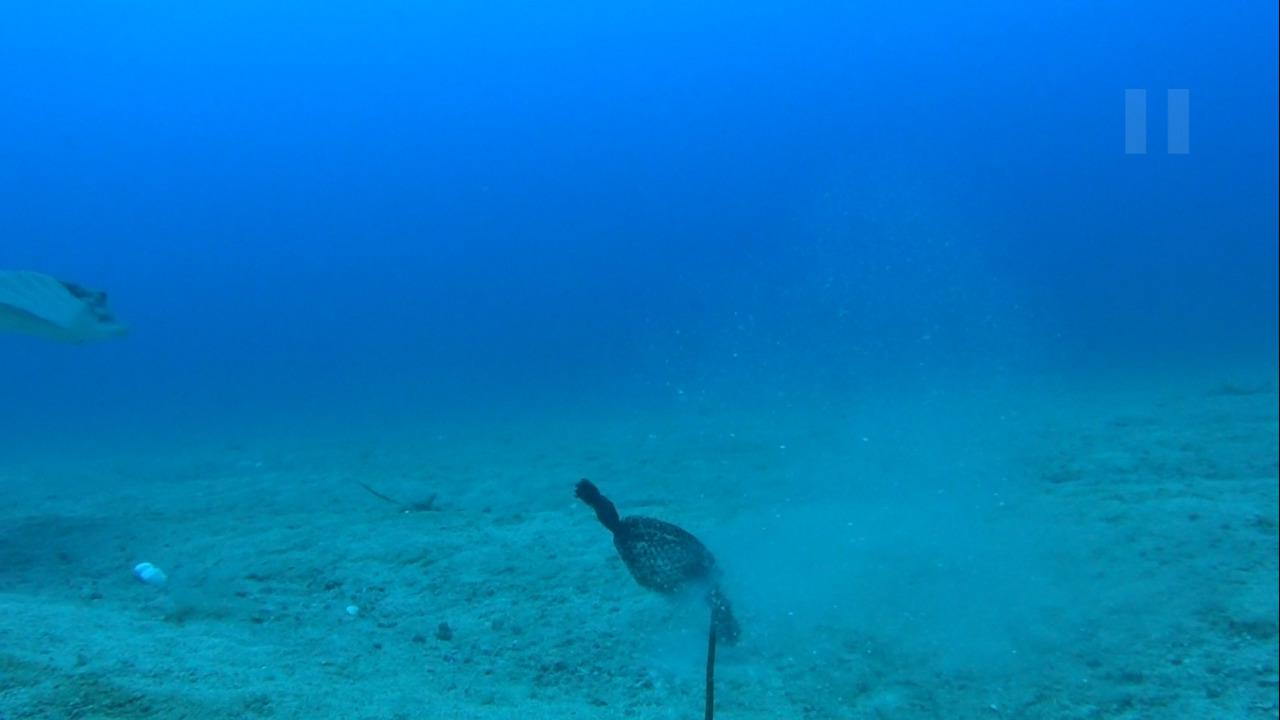myliobatis: (3, 258, 131, 346)
